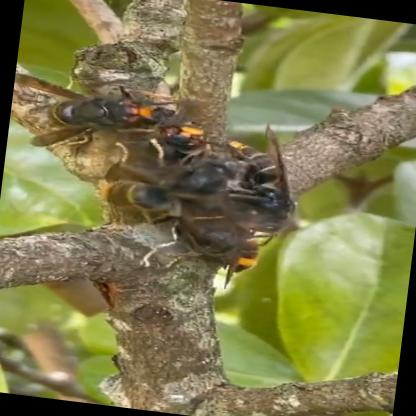bee: (0, 55, 340, 272)
